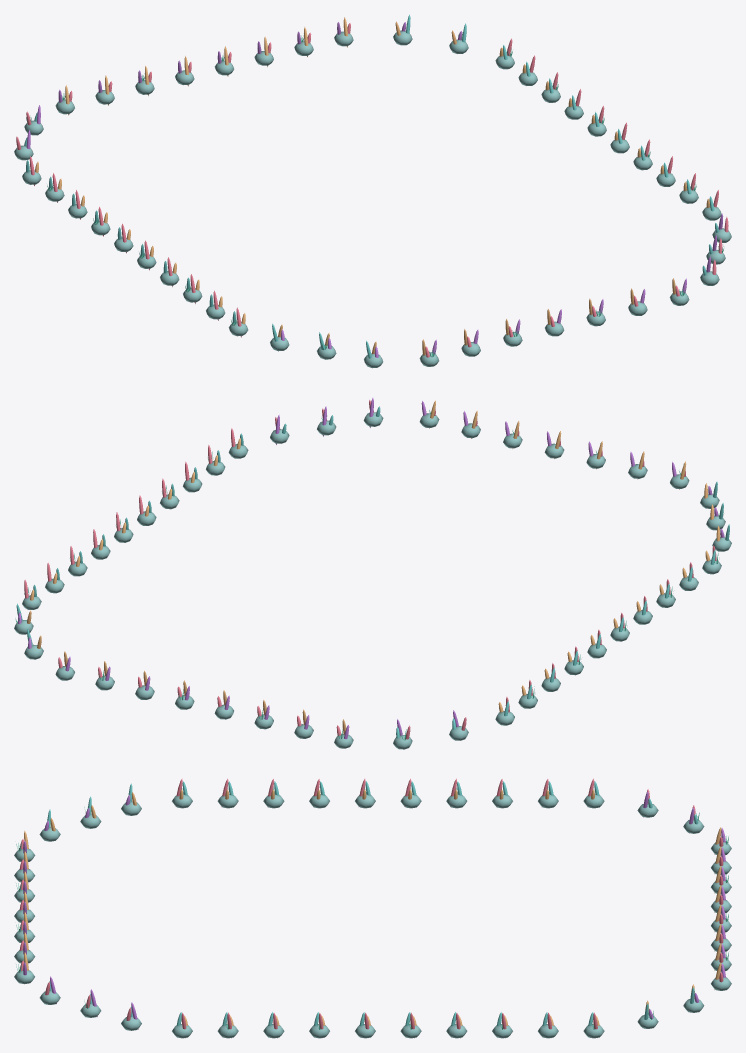
Rendered from reef-21-CINT-KCV.glb.
3 renders of one model, top to bottom at view 1: azimuth 30°, elevation 25°; view 2: azimuth 150°, elevation 25°; view 3: azimuth 270°, elevation 25°, orthographic.
Visible parts, largest first — view 1: ReefRock, Coral0, Coral2, Coral3, Coral1; view 2: ReefRock, Coral2, Coral0, Coral3, Coral1; view 3: ReefRock, Coral0, Coral2, Coral3, Coral1.
Boxes of the visible parts, <box> form: ReefRock: <box>14,30,731,367</box>; Coral0: <box>16,23,728,357</box>; Coral2: <box>35,17,710,355</box>; Coral3: <box>24,14,719,368</box>; Coral1: <box>26,22,723,357</box>; ReefRock: <box>14,412,731,749</box>; Coral2: <box>27,400,720,734</box>; Coral0: <box>24,400,716,739</box>; Coral3: <box>16,406,729,738</box>; Coral1: <box>18,398,724,739</box>; ReefRock: <box>14,794,731,1038</box>; Coral0: <box>19,778,723,1038</box>; Coral2: <box>24,789,721,1025</box>; Coral3: <box>47,781,698,1025</box>; Coral1: <box>23,791,725,1029</box>.
Bounding box in the file's own units: 37 × 2.06 × 47.1.
